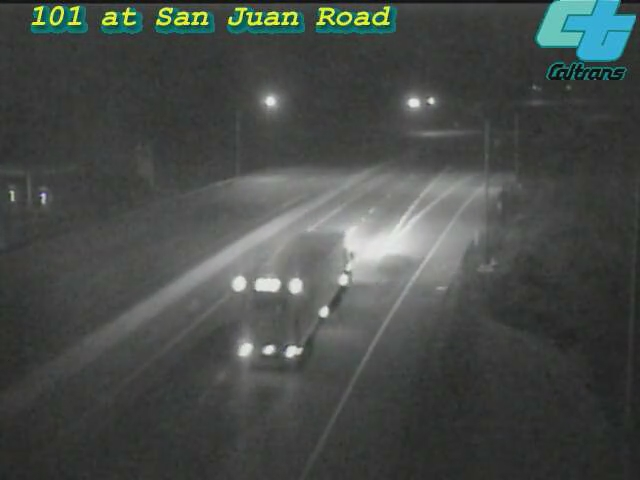vehicle: (259, 248, 339, 328)
